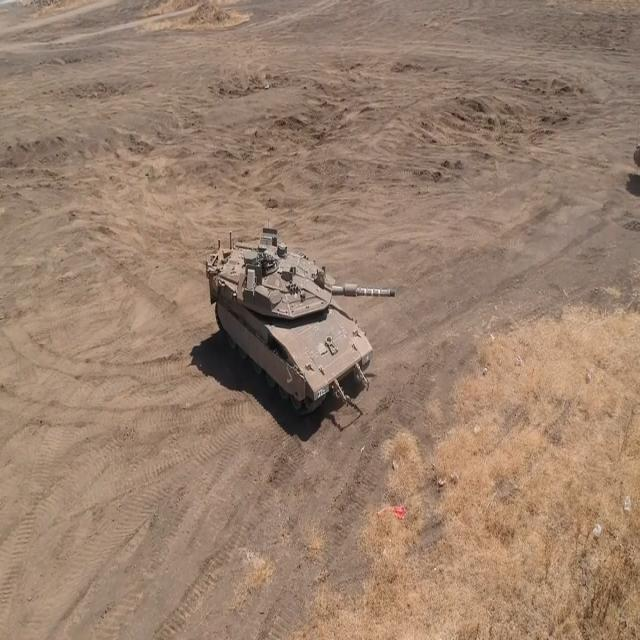tank: (210, 227, 396, 439)
